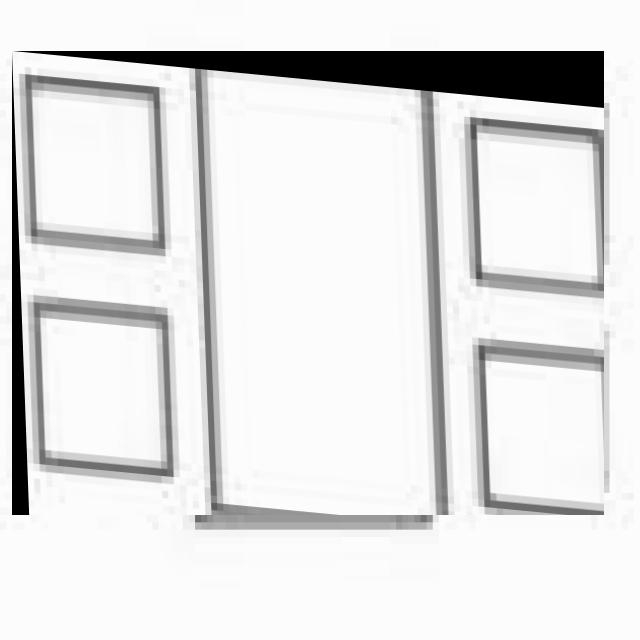table: (12, 51, 604, 515)
